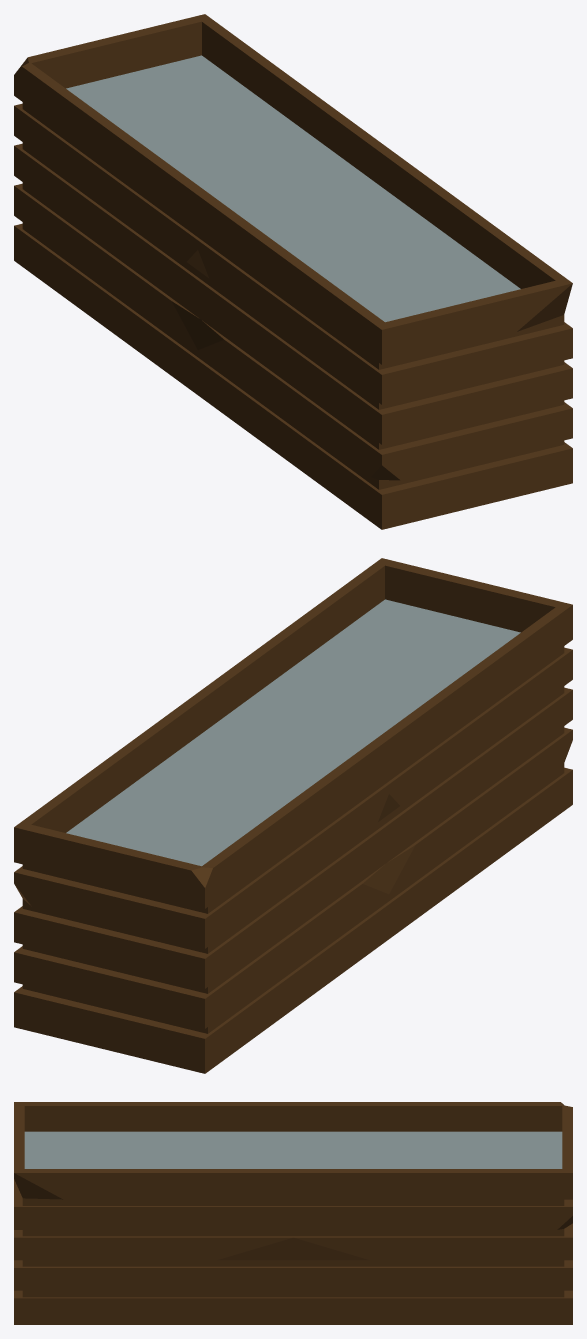
Rendered from Water_Troughs.fbx.
3 renders of one model, top to bottom at view 1: azimuth 30°, elevation 25°; view 2: azimuth 150°, elevation 25°; view 3: azimuth 270°, elevation 25°, orthographic. The views are drawn at different scales.
Parts seen in each view (by area): view 1: Water_Troughs; view 2: Water_Troughs; view 3: Water_Troughs.
Boxes of the visible parts, <box> form: Water_Troughs: <box>14,14,572,529</box>; Water_Troughs: <box>14,558,572,1073</box>; Water_Troughs: <box>14,1102,572,1324</box>.
Size of the model in its own units: 60 by 60 by 200.
